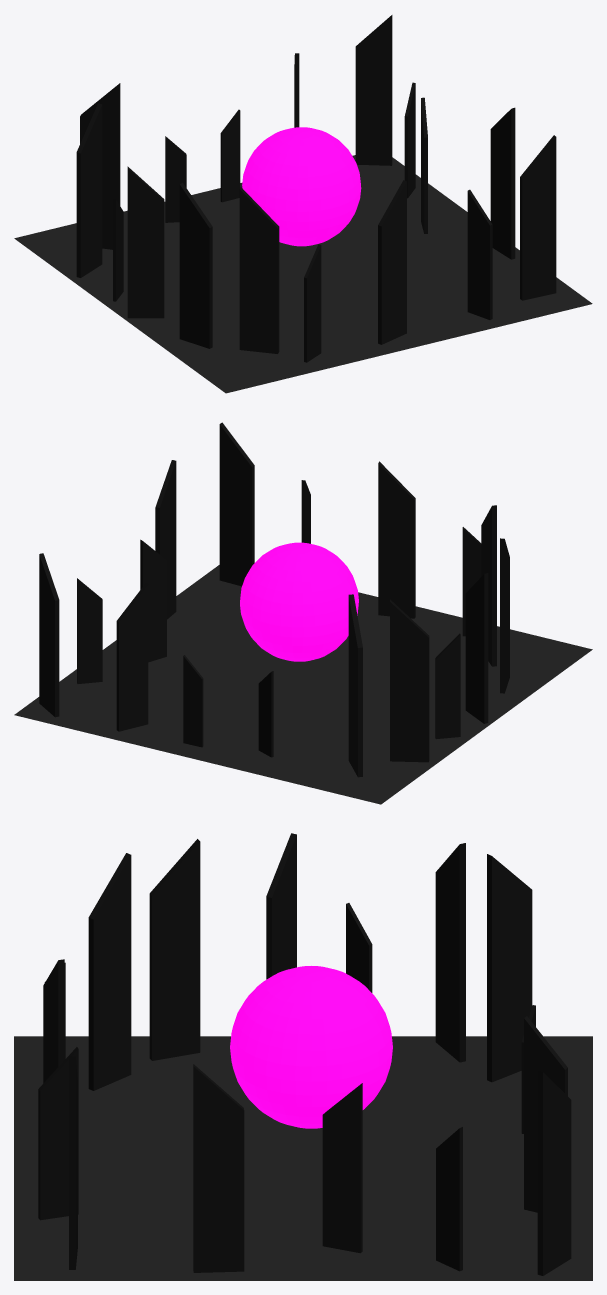
3 views of the same model, one above another, from view 1: azimuth 30°, elevation 25°; view 2: azimuth 150°, elevation 25°; view 3: azimuth 270°, elevation 25° (orthographic). The views are drawn at different scales.
Parts seen in each view (by area): view 1: Stones_2, Floor_0, Sphere_1; view 2: Floor_0, Stones_2, Sphere_1; view 3: Floor_0, Stones_2, Sphere_1.
Part boxes in pixels (bbox=[...]): Stones_2: bbox=[76, 15, 556, 362]; Floor_0: bbox=[14, 155, 592, 393]; Sphere_1: bbox=[242, 127, 361, 246]; Floor_0: bbox=[14, 565, 592, 804]; Stones_2: bbox=[39, 422, 509, 777]; Sphere_1: bbox=[240, 542, 358, 661]; Floor_0: bbox=[14, 1036, 592, 1280]; Stones_2: bbox=[38, 833, 571, 1275]; Sphere_1: bbox=[230, 966, 392, 1128].
Size of the model in its own units: 13 by 5.62 by 13.
